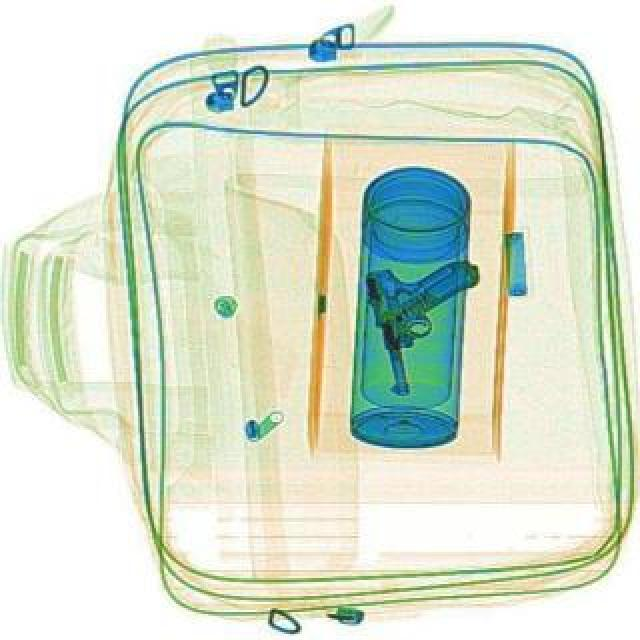gun: (360, 256, 498, 398)
